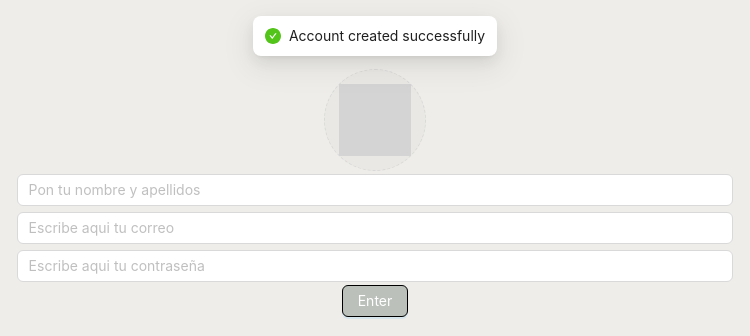
Test: SignUp › handles sign up error
Type "John Doe" into the field with placeholder "Pon tu nombre y apellidos" at {"x": 375, "y": 190}, box [17, 174, 733, 206]
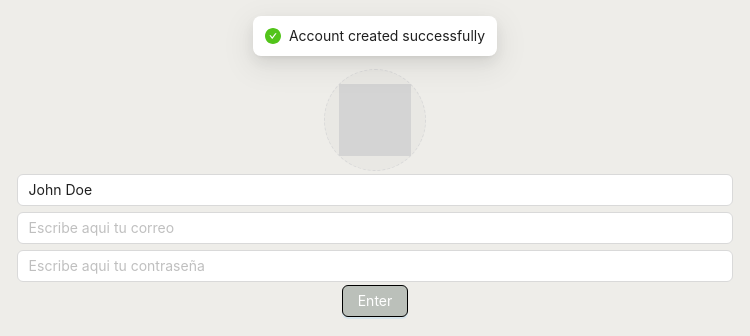
Type "test@example.com" into the field with placeholder "Escribe aqui tu correo" at {"x": 375, "y": 228}, box [17, 212, 733, 244]
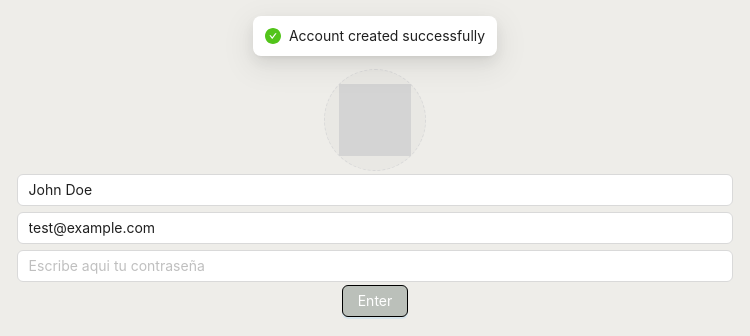
Type "password" into the password field with placeholder "Escribe aqui tu contraseña" at {"x": 375, "y": 266}, box [17, 250, 733, 282]
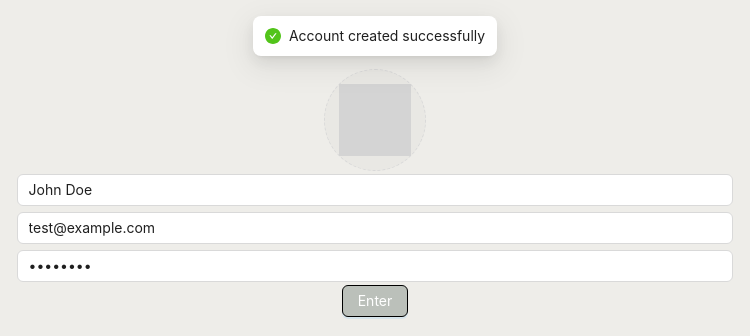
Click the button "Enter" at {"x": 375, "y": 301}, box [342, 285, 408, 317]
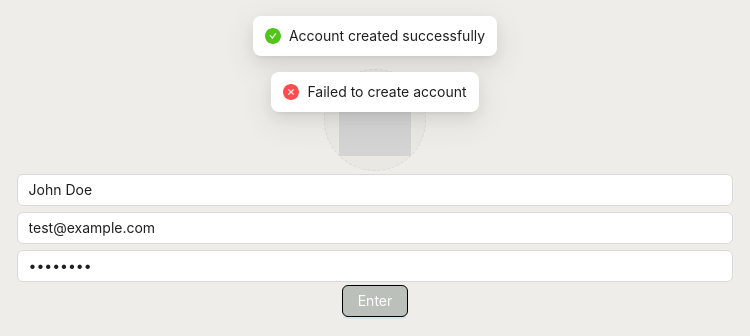
Expected: the text "Failed to create account" is shown, [307, 81, 466, 103]
